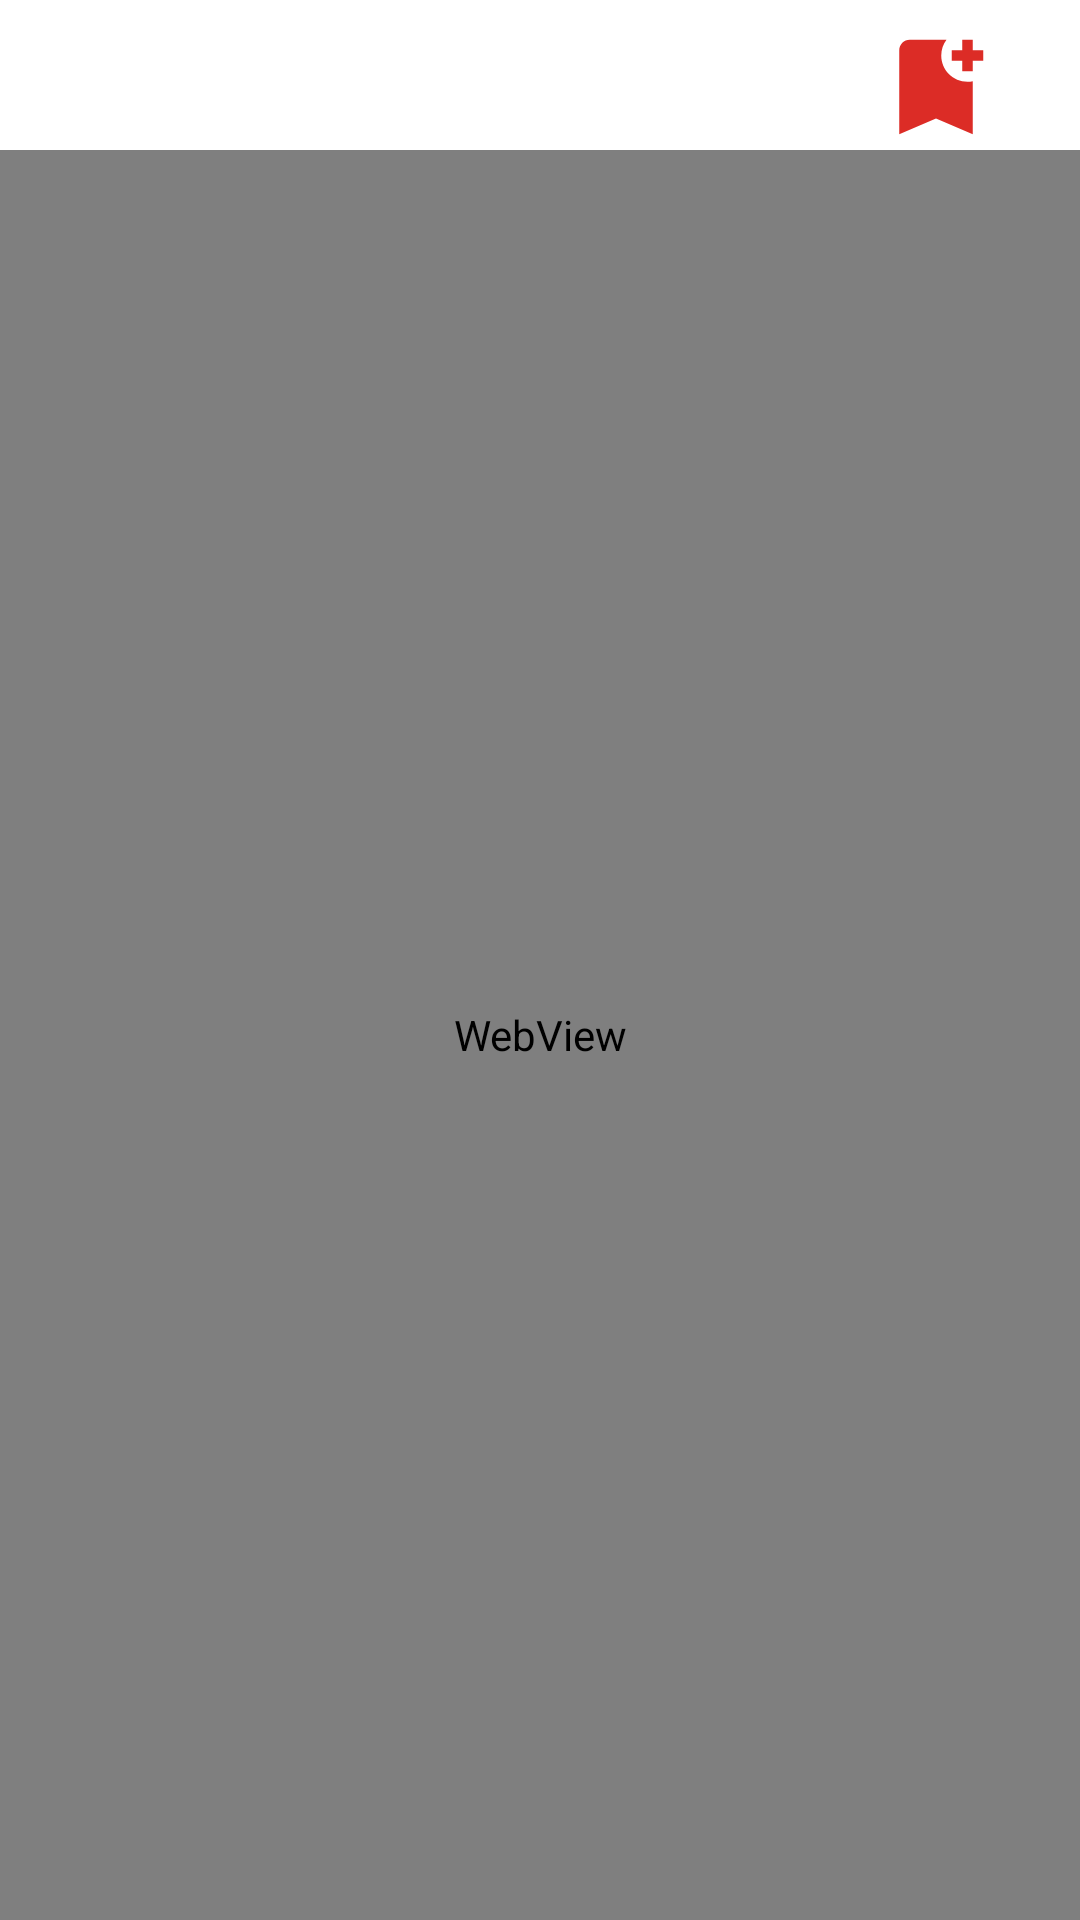

Named icons in this screenshot (1080 x 1920) and their bounding boxes, detection(x1, y1, x2, y2):
bookmark add: detection(899, 39, 984, 134)
